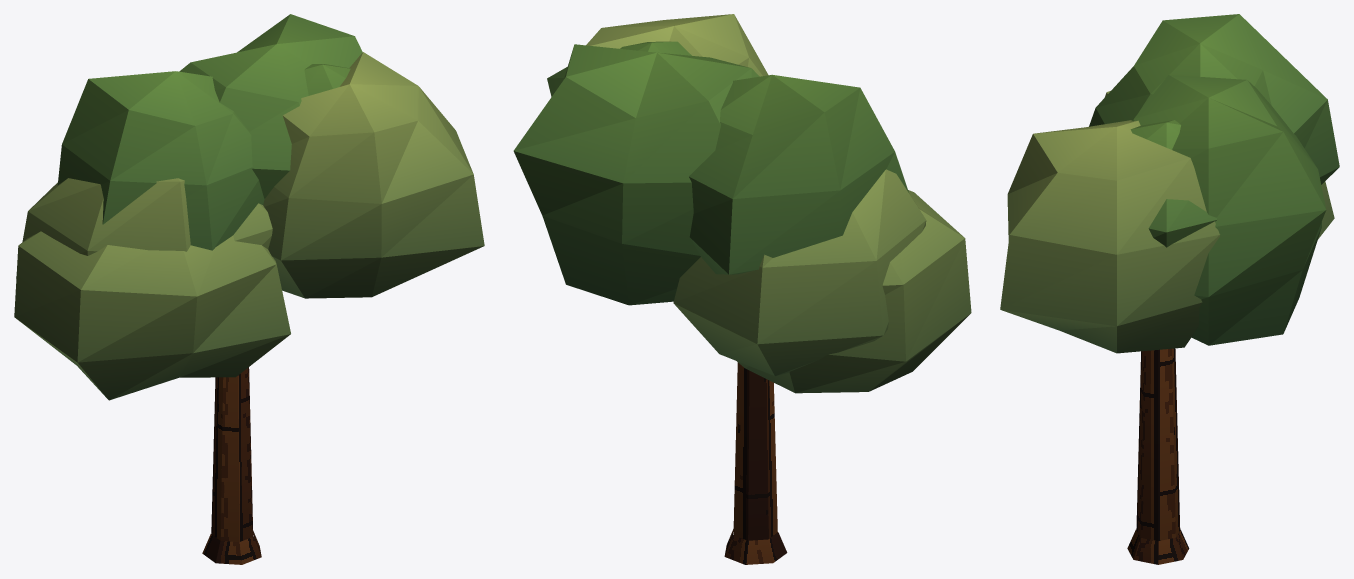
The model's file is oak_1_lowpoly.glb.
The picture shows the model from 3 angles, left to right: view 1: azimuth 30°, elevation 25°; view 2: azimuth 150°, elevation 25°; view 3: azimuth 270°, elevation 25°; orthographic projection. The views are drawn at different scales.
Parts seen in each view (by area): view 1: oak_1_lowpoly; view 2: oak_1_lowpoly; view 3: oak_1_lowpoly.
Boxes of the visible parts, x1,y1,x2,y2 form: oak_1_lowpoly: [14, 14, 484, 564]; oak_1_lowpoly: [513, 14, 971, 564]; oak_1_lowpoly: [1000, 14, 1339, 564].
Size of the model in its own units: 5.31 by 6.12 by 3.85.
Materials: 2 (1 with a texture image).
